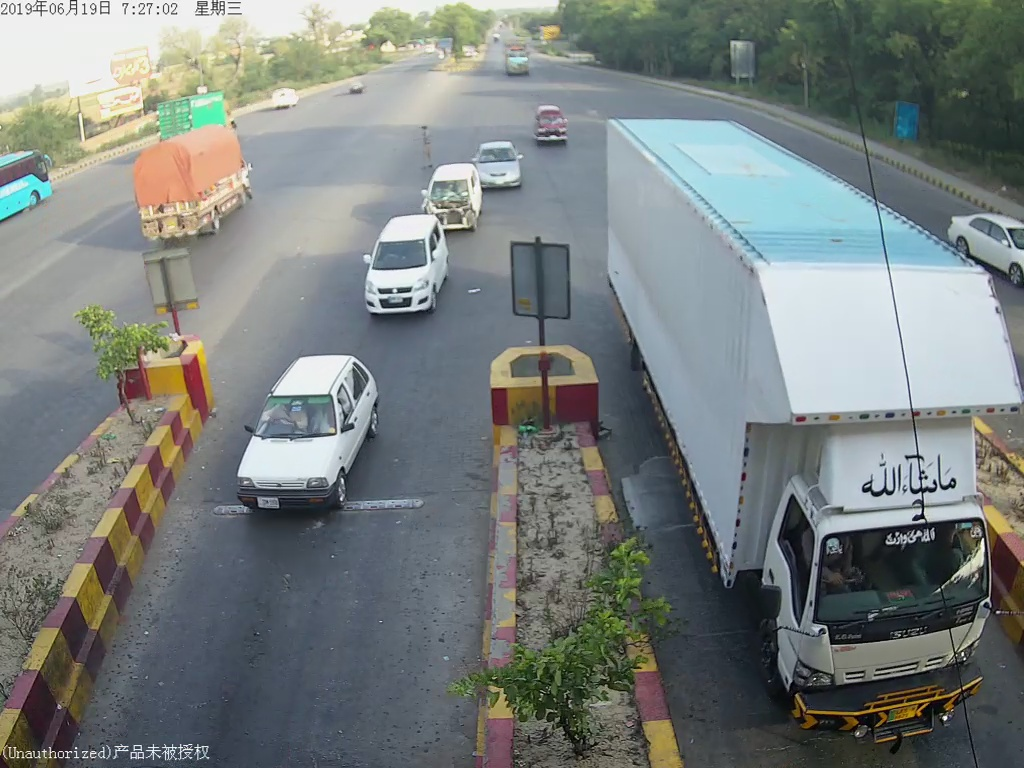Cat-1: (224, 355, 388, 534), (357, 214, 448, 319), (421, 167, 481, 217), (477, 138, 522, 195), (536, 102, 567, 141)
Cat-4: (604, 113, 1022, 745)
